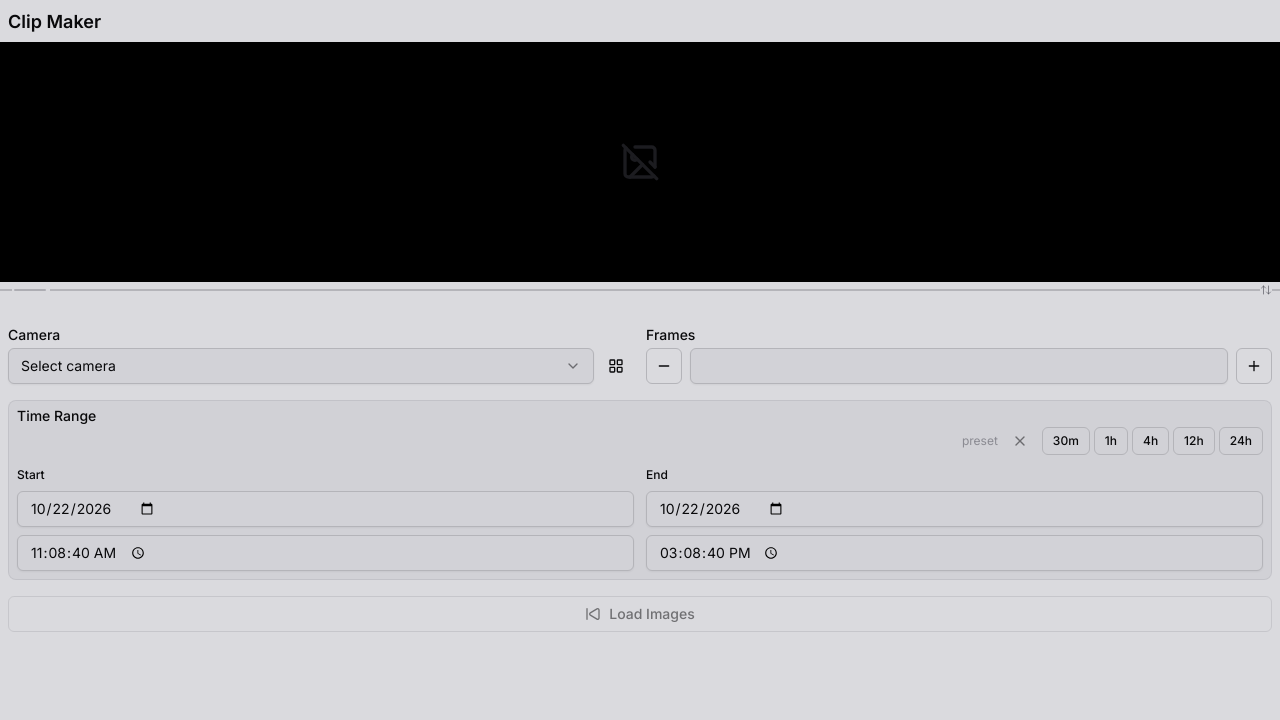
Test: the Boxes toggle is a switch that its label names
The width and height of the screenshot is (1280, 720).
Step 1. Click the button named "Switch to multi-camera" → (616,366), box [598,348,634,384]
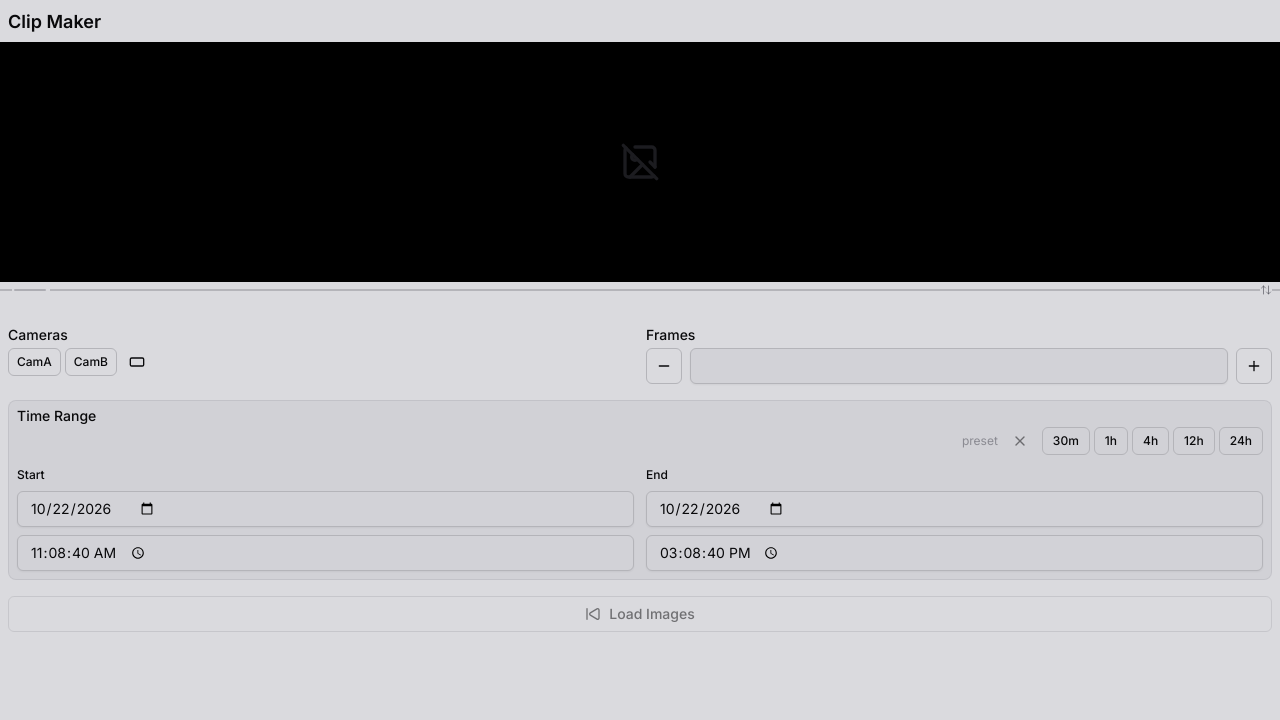
Step 2. Click the button "CamA" → (34,362), box [8,348,61,376]
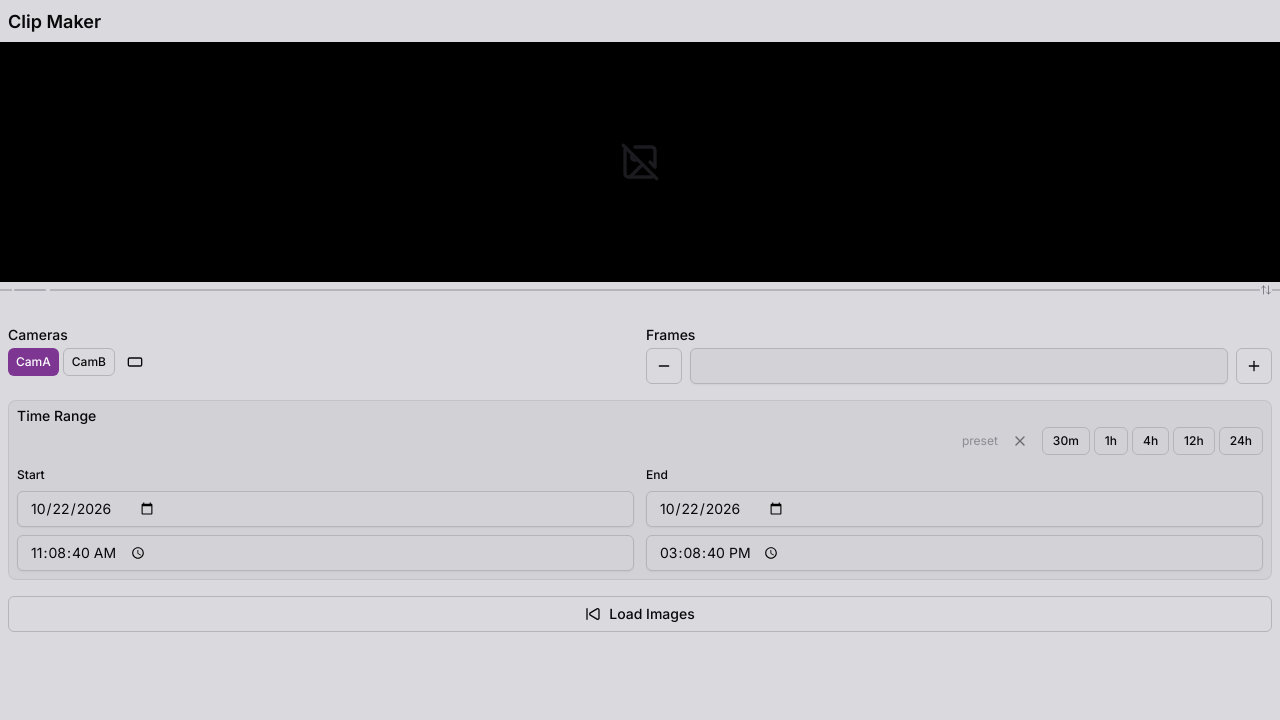
Step 3. Click the button "Load Images" → (640,614), box [8,596,1272,632]
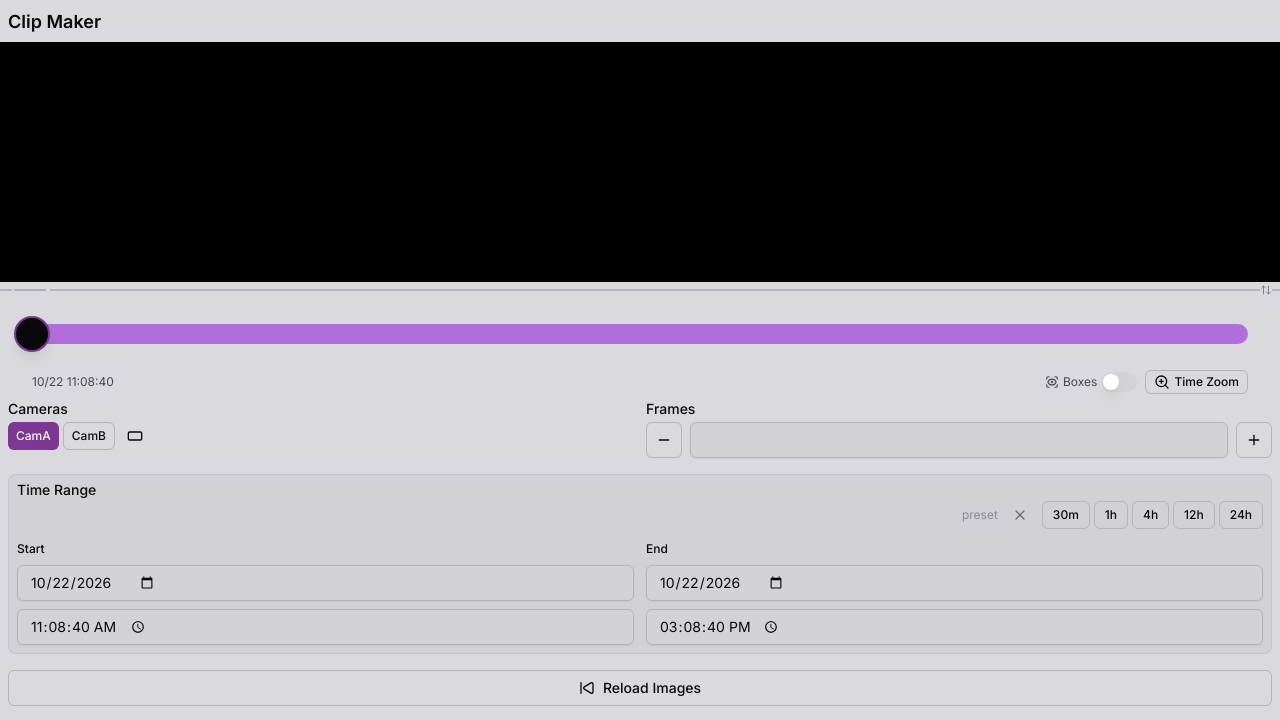
Check: the switch named "Boxes" is shown, box [1101,372,1137,392]
